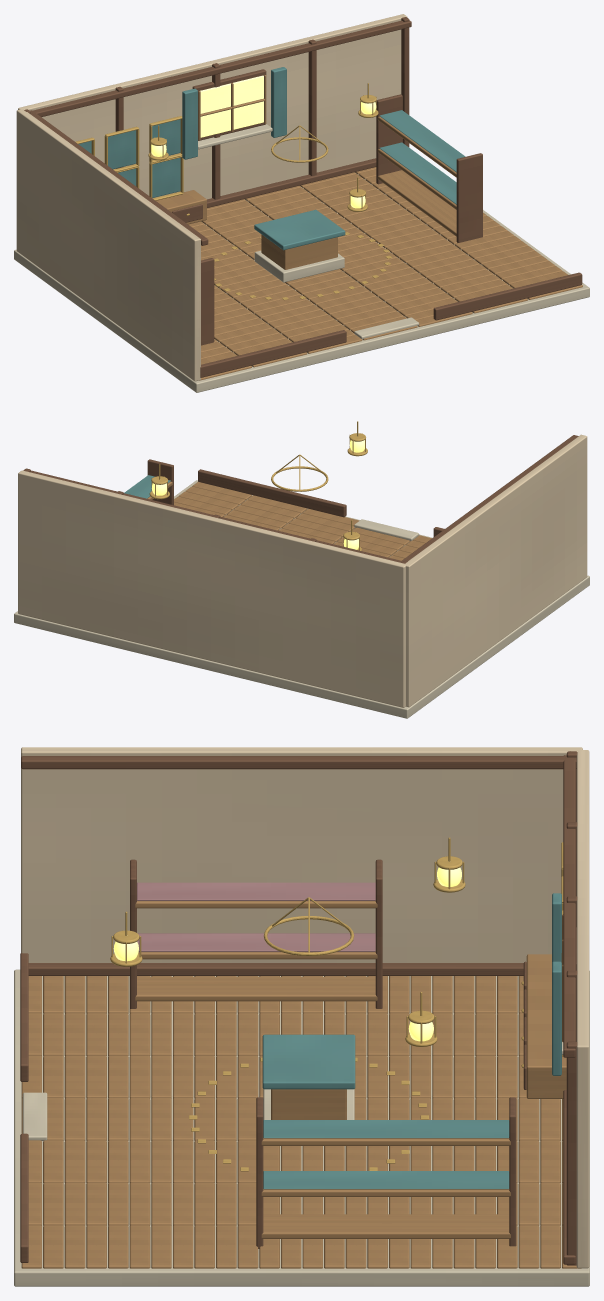
Rendered from museum-interior.glb.
3 renders of one model, top to bottom at view 1: azimuth 30°, elevation 25°; view 2: azimuth 150°, elevation 25°; view 3: azimuth 270°, elevation 25°, orthographic. The views are drawn at different scales.
Parts seen in each view (by area): view 1: Forest hamlet; view 2: Forest hamlet; view 3: Forest hamlet.
Boxes of the visible parts, left/top/right/bottom form: Forest hamlet: left=14, top=14, right=589, bottom=392; Forest hamlet: left=14, top=421, right=589, bottom=718; Forest hamlet: left=14, top=747, right=589, bottom=1286.
Size of the model in its own units: 10.2 by 3.74 by 8.2.
Materials: 8 (8 with a texture image).
